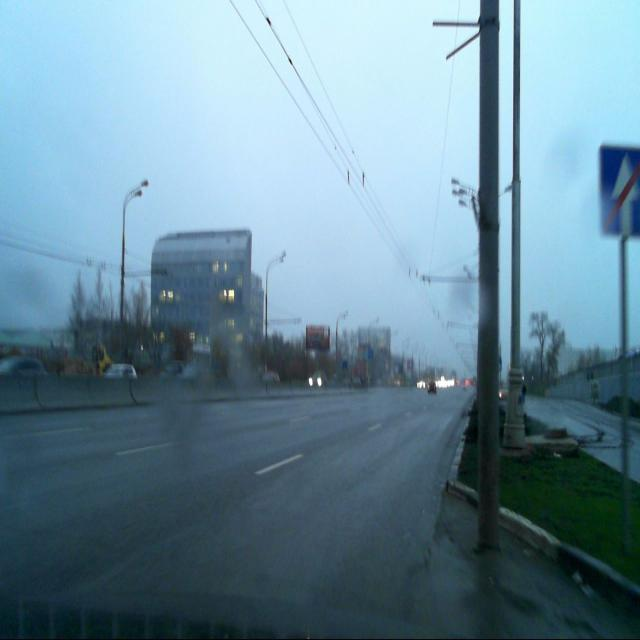road sign: (618, 234, 630, 558), (603, 148, 639, 234)
